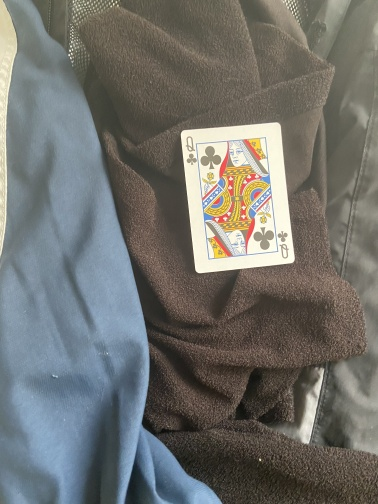queen: (178, 120, 296, 274)
